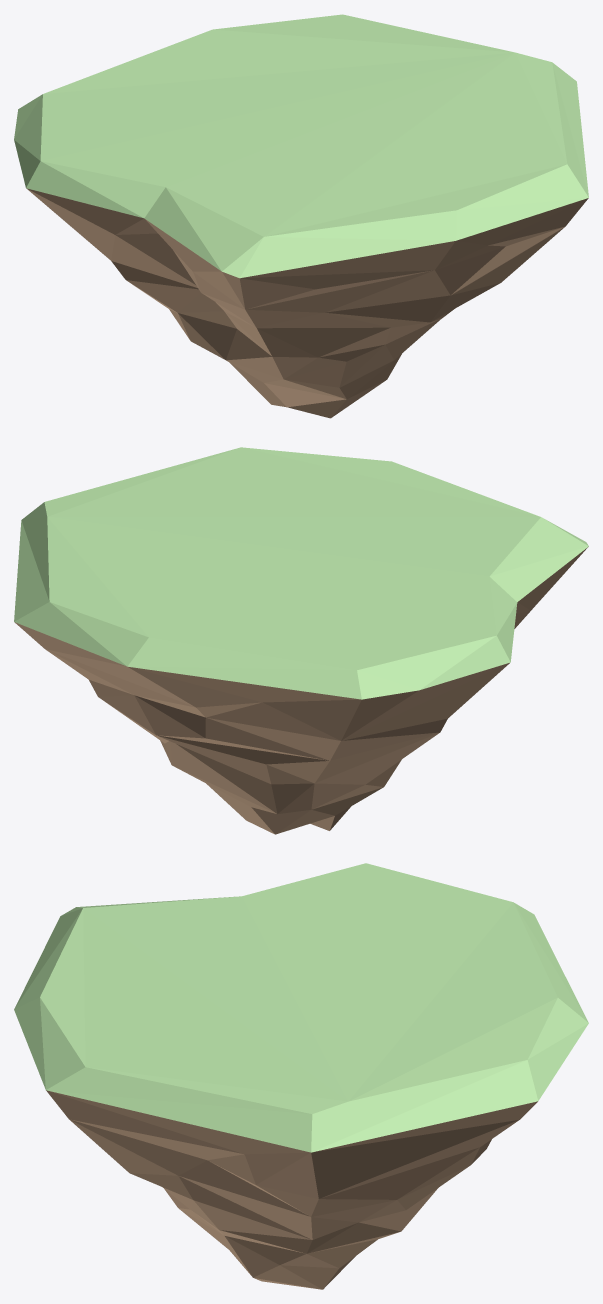
Rendered from island2_Green.fbx.
3 views of the same model, one above another, from view 1: azimuth 30°, elevation 25°; view 2: azimuth 150°, elevation 25°; view 3: azimuth 270°, elevation 25° (orthographic). The views are drawn at different scales.
Parts seen in each view (by area): view 1: island2; view 2: island2; view 3: island2.
Part boxes in pixels (bbox=[...]): island2: bbox=[14, 14, 588, 418]; island2: bbox=[14, 447, 588, 834]; island2: bbox=[14, 863, 588, 1289].
Size of the model in its own units: 32.63 by 16.68 by 29.4.
